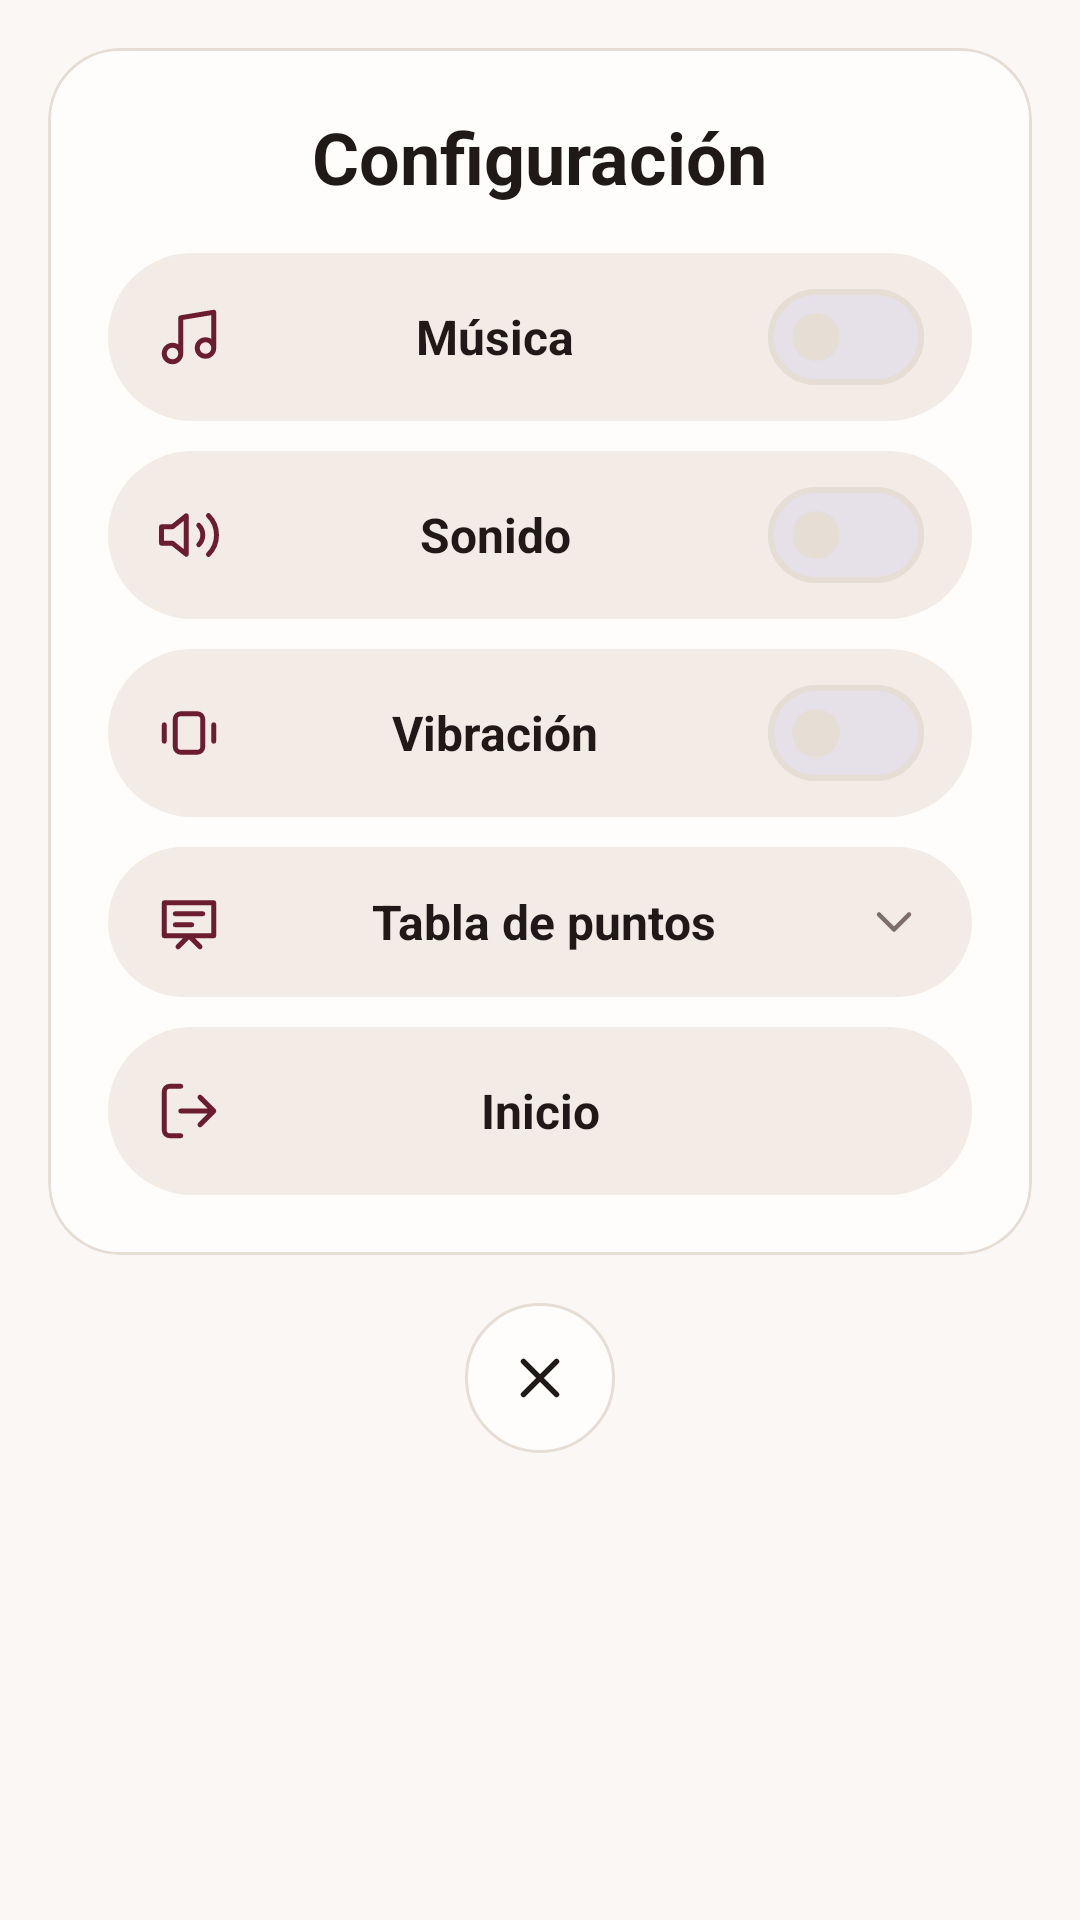

Where icons sit on this 1080x1920 app screen, as {"left": x1, "top": y1, "right": x2, "bottom": y2}:
cerrar: {"left": 520, "top": 1358, "right": 560, "bottom": 1398}
chevron abajo: {"left": 876, "top": 912, "right": 912, "bottom": 932}
musica: {"left": 161, "top": 309, "right": 217, "bottom": 365}
salida: {"left": 161, "top": 1083, "right": 217, "bottom": 1139}
vibracion: {"left": 161, "top": 711, "right": 217, "bottom": 755}
